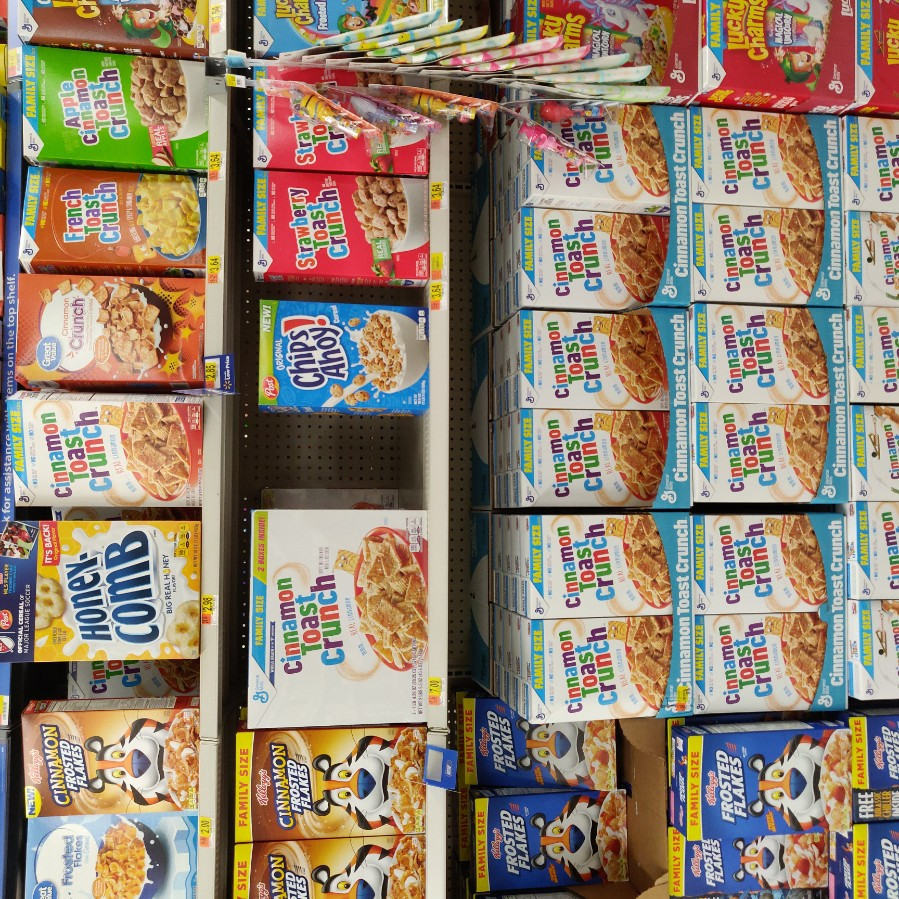Chips Ahoys-565717529: (256, 300, 440, 414)
Honey Comb- 009288857: (1, 514, 203, 665)
